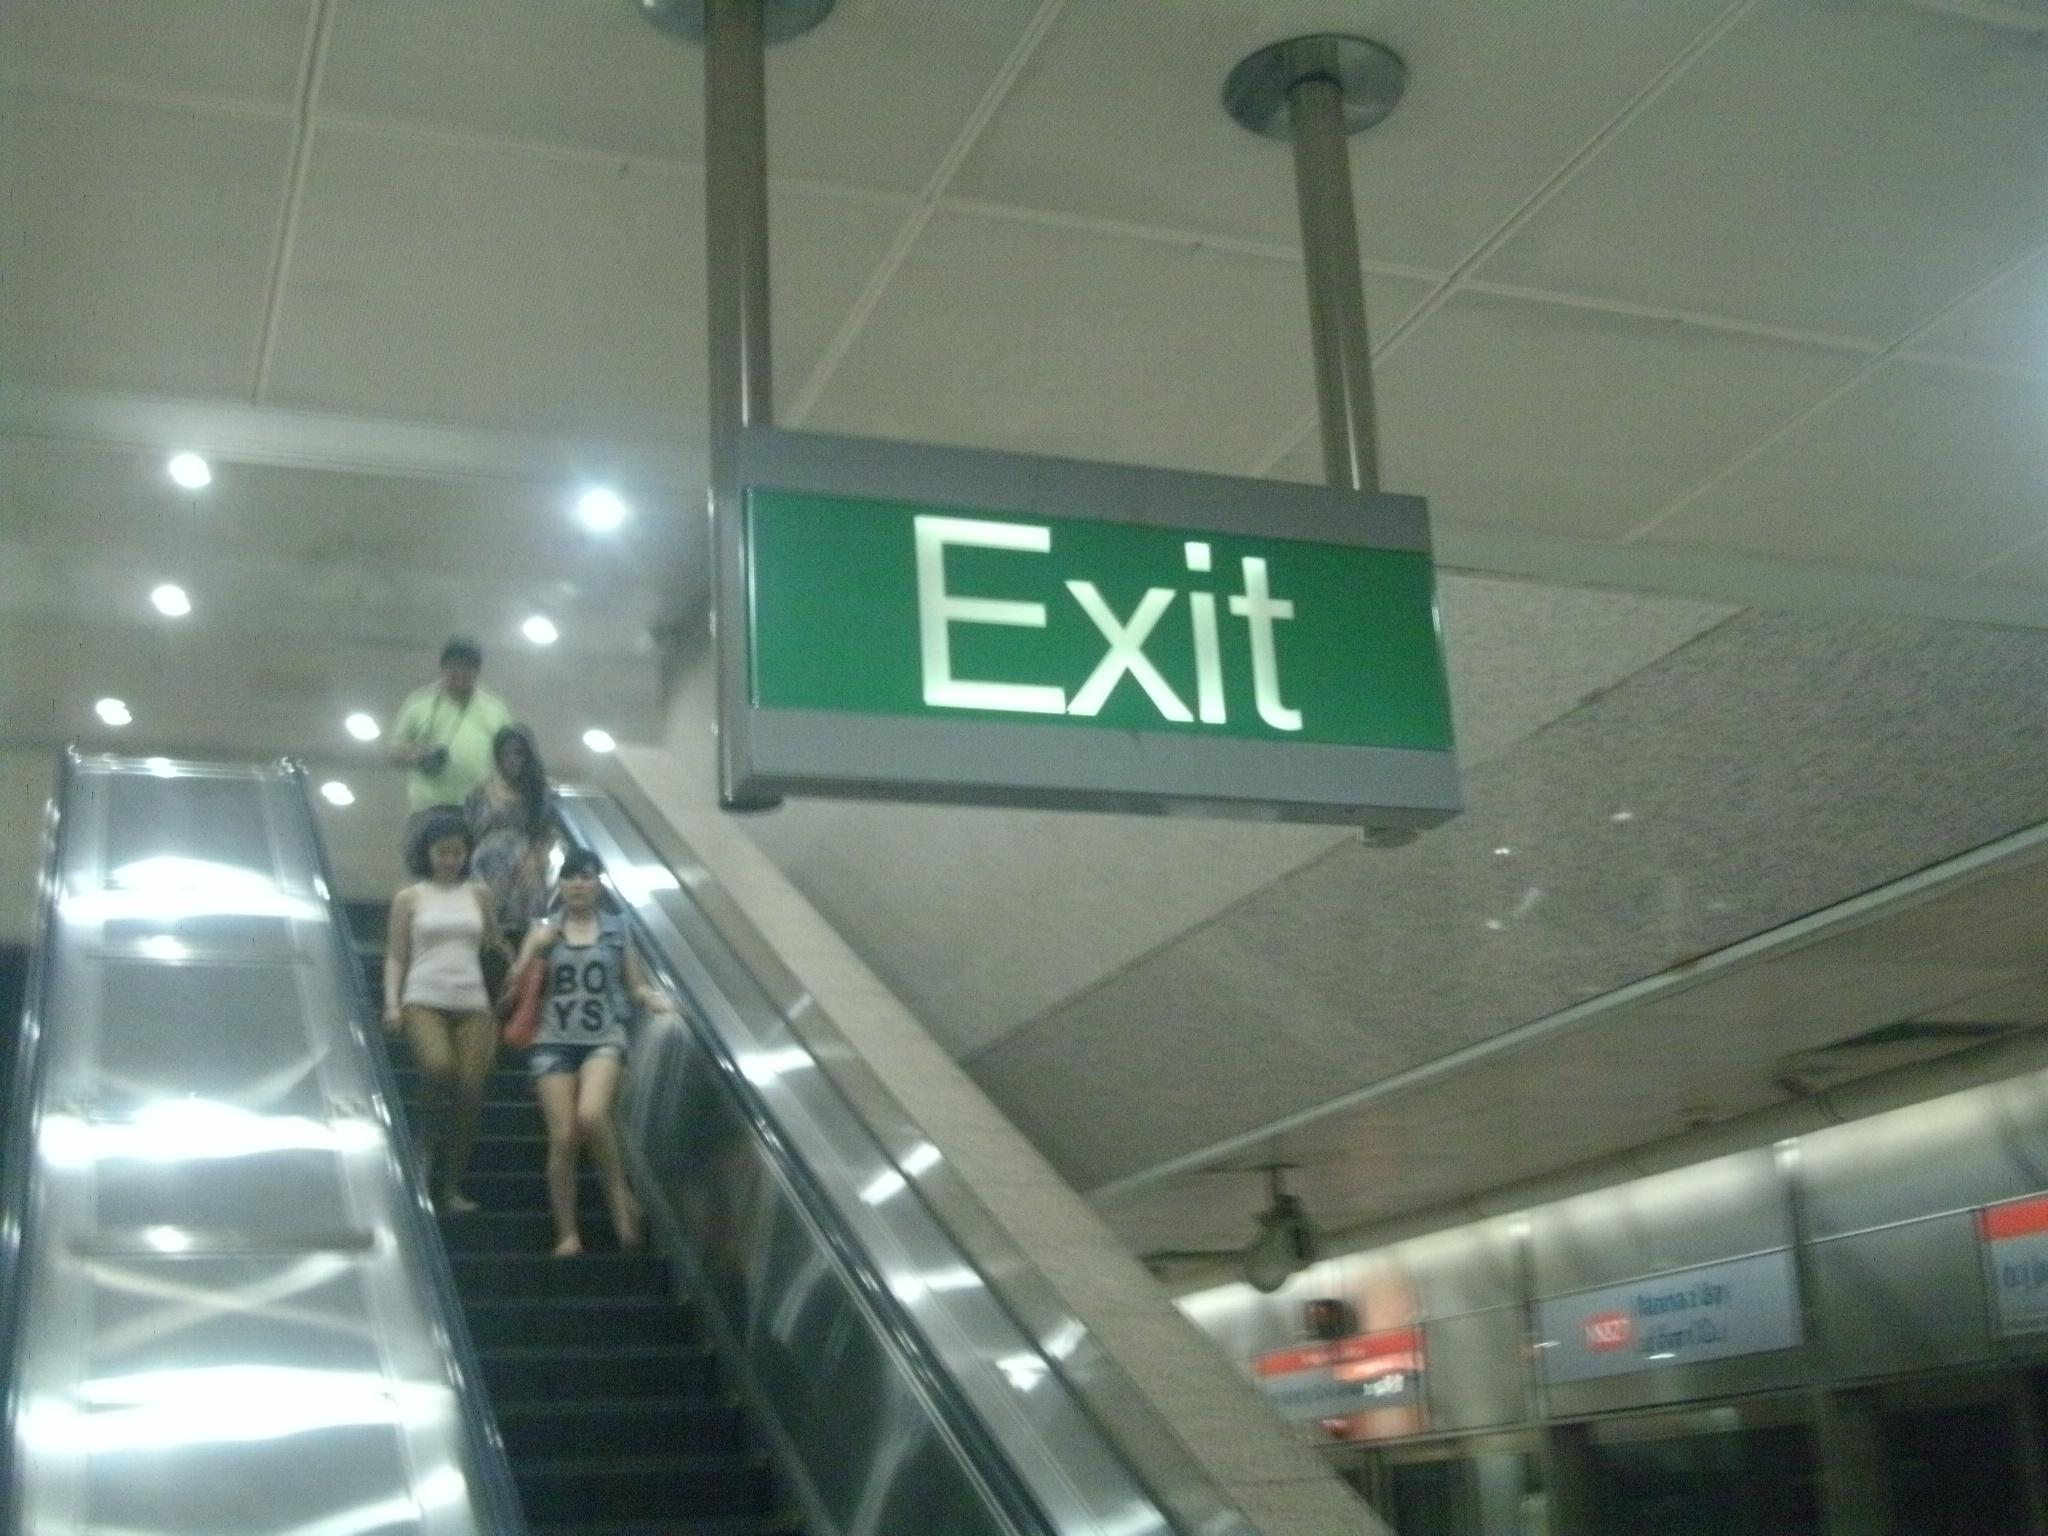unlit_exit_sign: (742, 490, 1453, 802)
